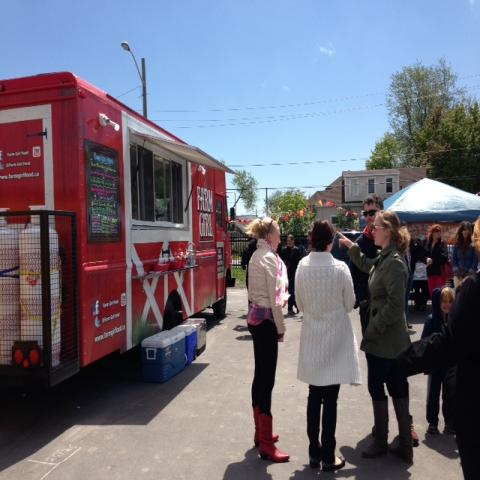bus: (1, 72, 237, 367)
truck: (1, 76, 228, 384)
